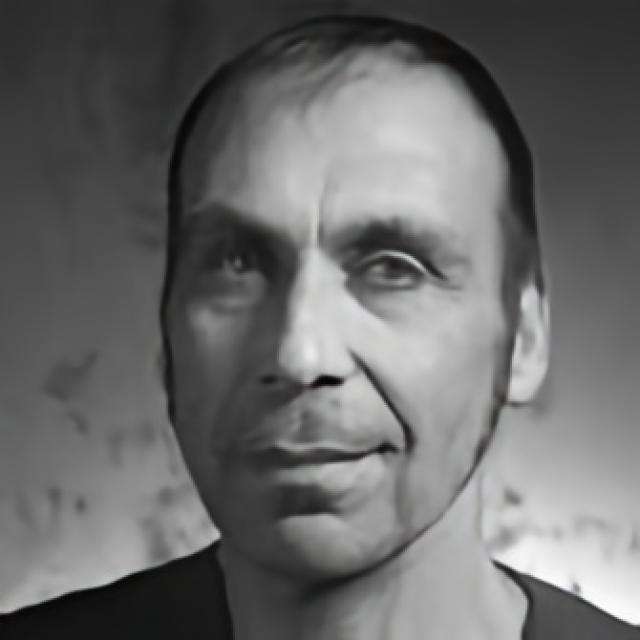content: (165, 45, 502, 577)
